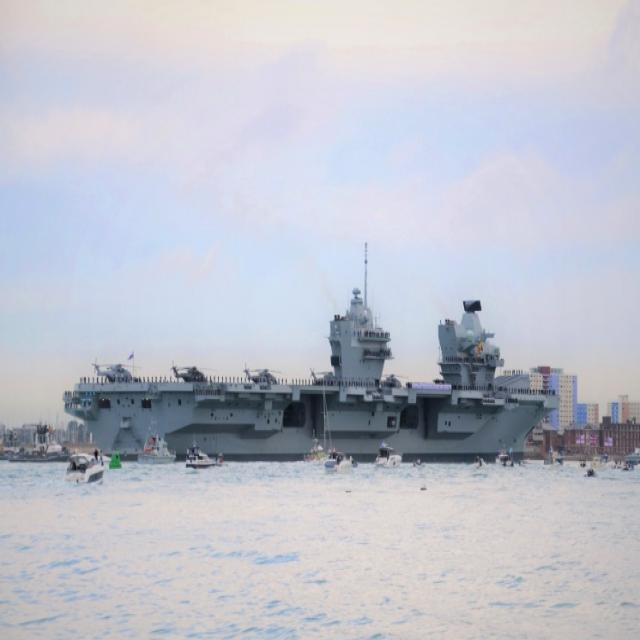Portanaves: (62, 245, 564, 470)
